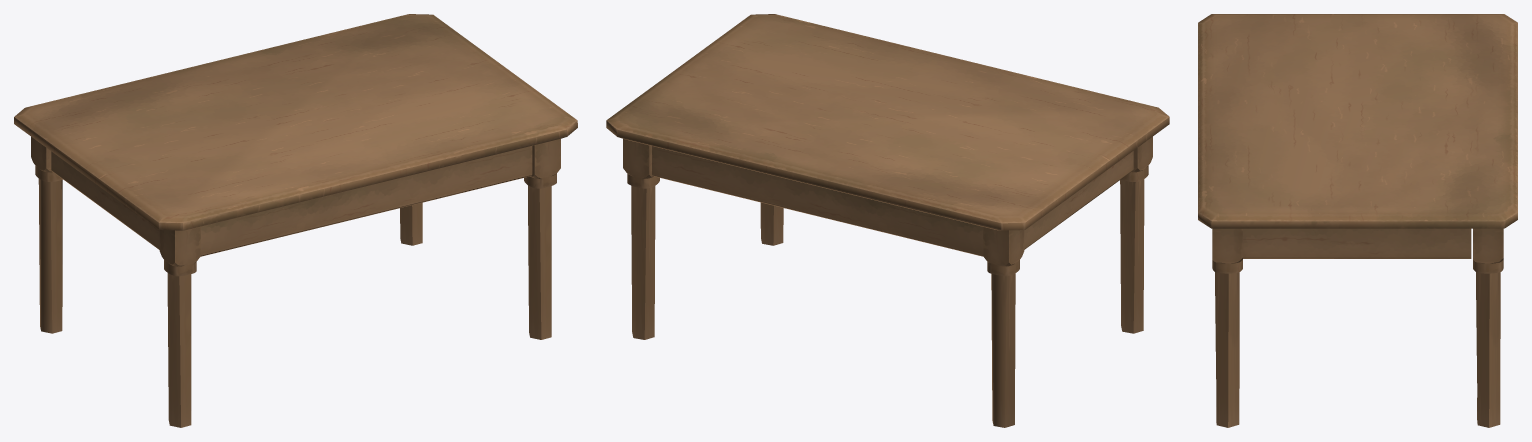
The model's file is FUR0110005.fbx.
3 views of the same model, side by side, from view 1: azimuth 30°, elevation 25°; view 2: azimuth 150°, elevation 25°; view 3: azimuth 270°, elevation 25° (orthographic).
Visible parts, largest first — view 1: smFUR0110005; view 2: smFUR0110005; view 3: smFUR0110005.
Part boxes in pixels (<box>): smFUR0110005: <box>14,14,577,427</box>; smFUR0110005: <box>606,14,1169,427</box>; smFUR0110005: <box>1198,14,1517,427</box>.
Size of the model in its own units: 191 by 94.01 by 125.
Materials: 1 (1 with a texture image).
